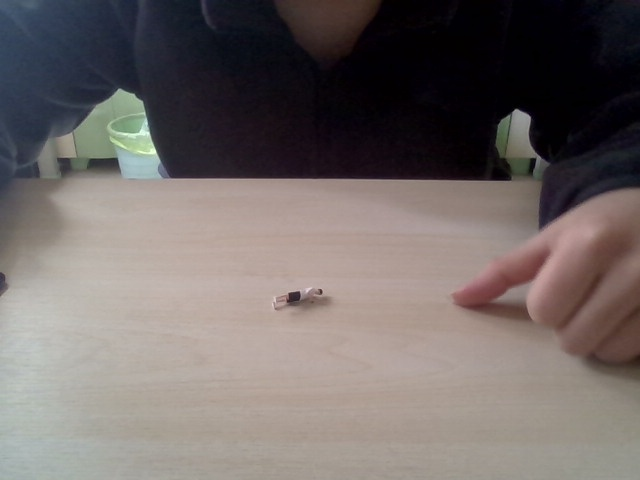fall: (269, 282, 326, 314)
